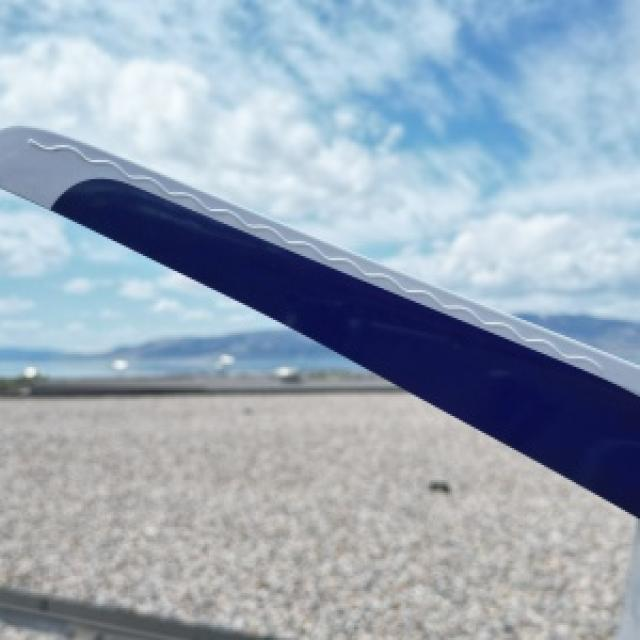healthy: (0, 126, 638, 516)
